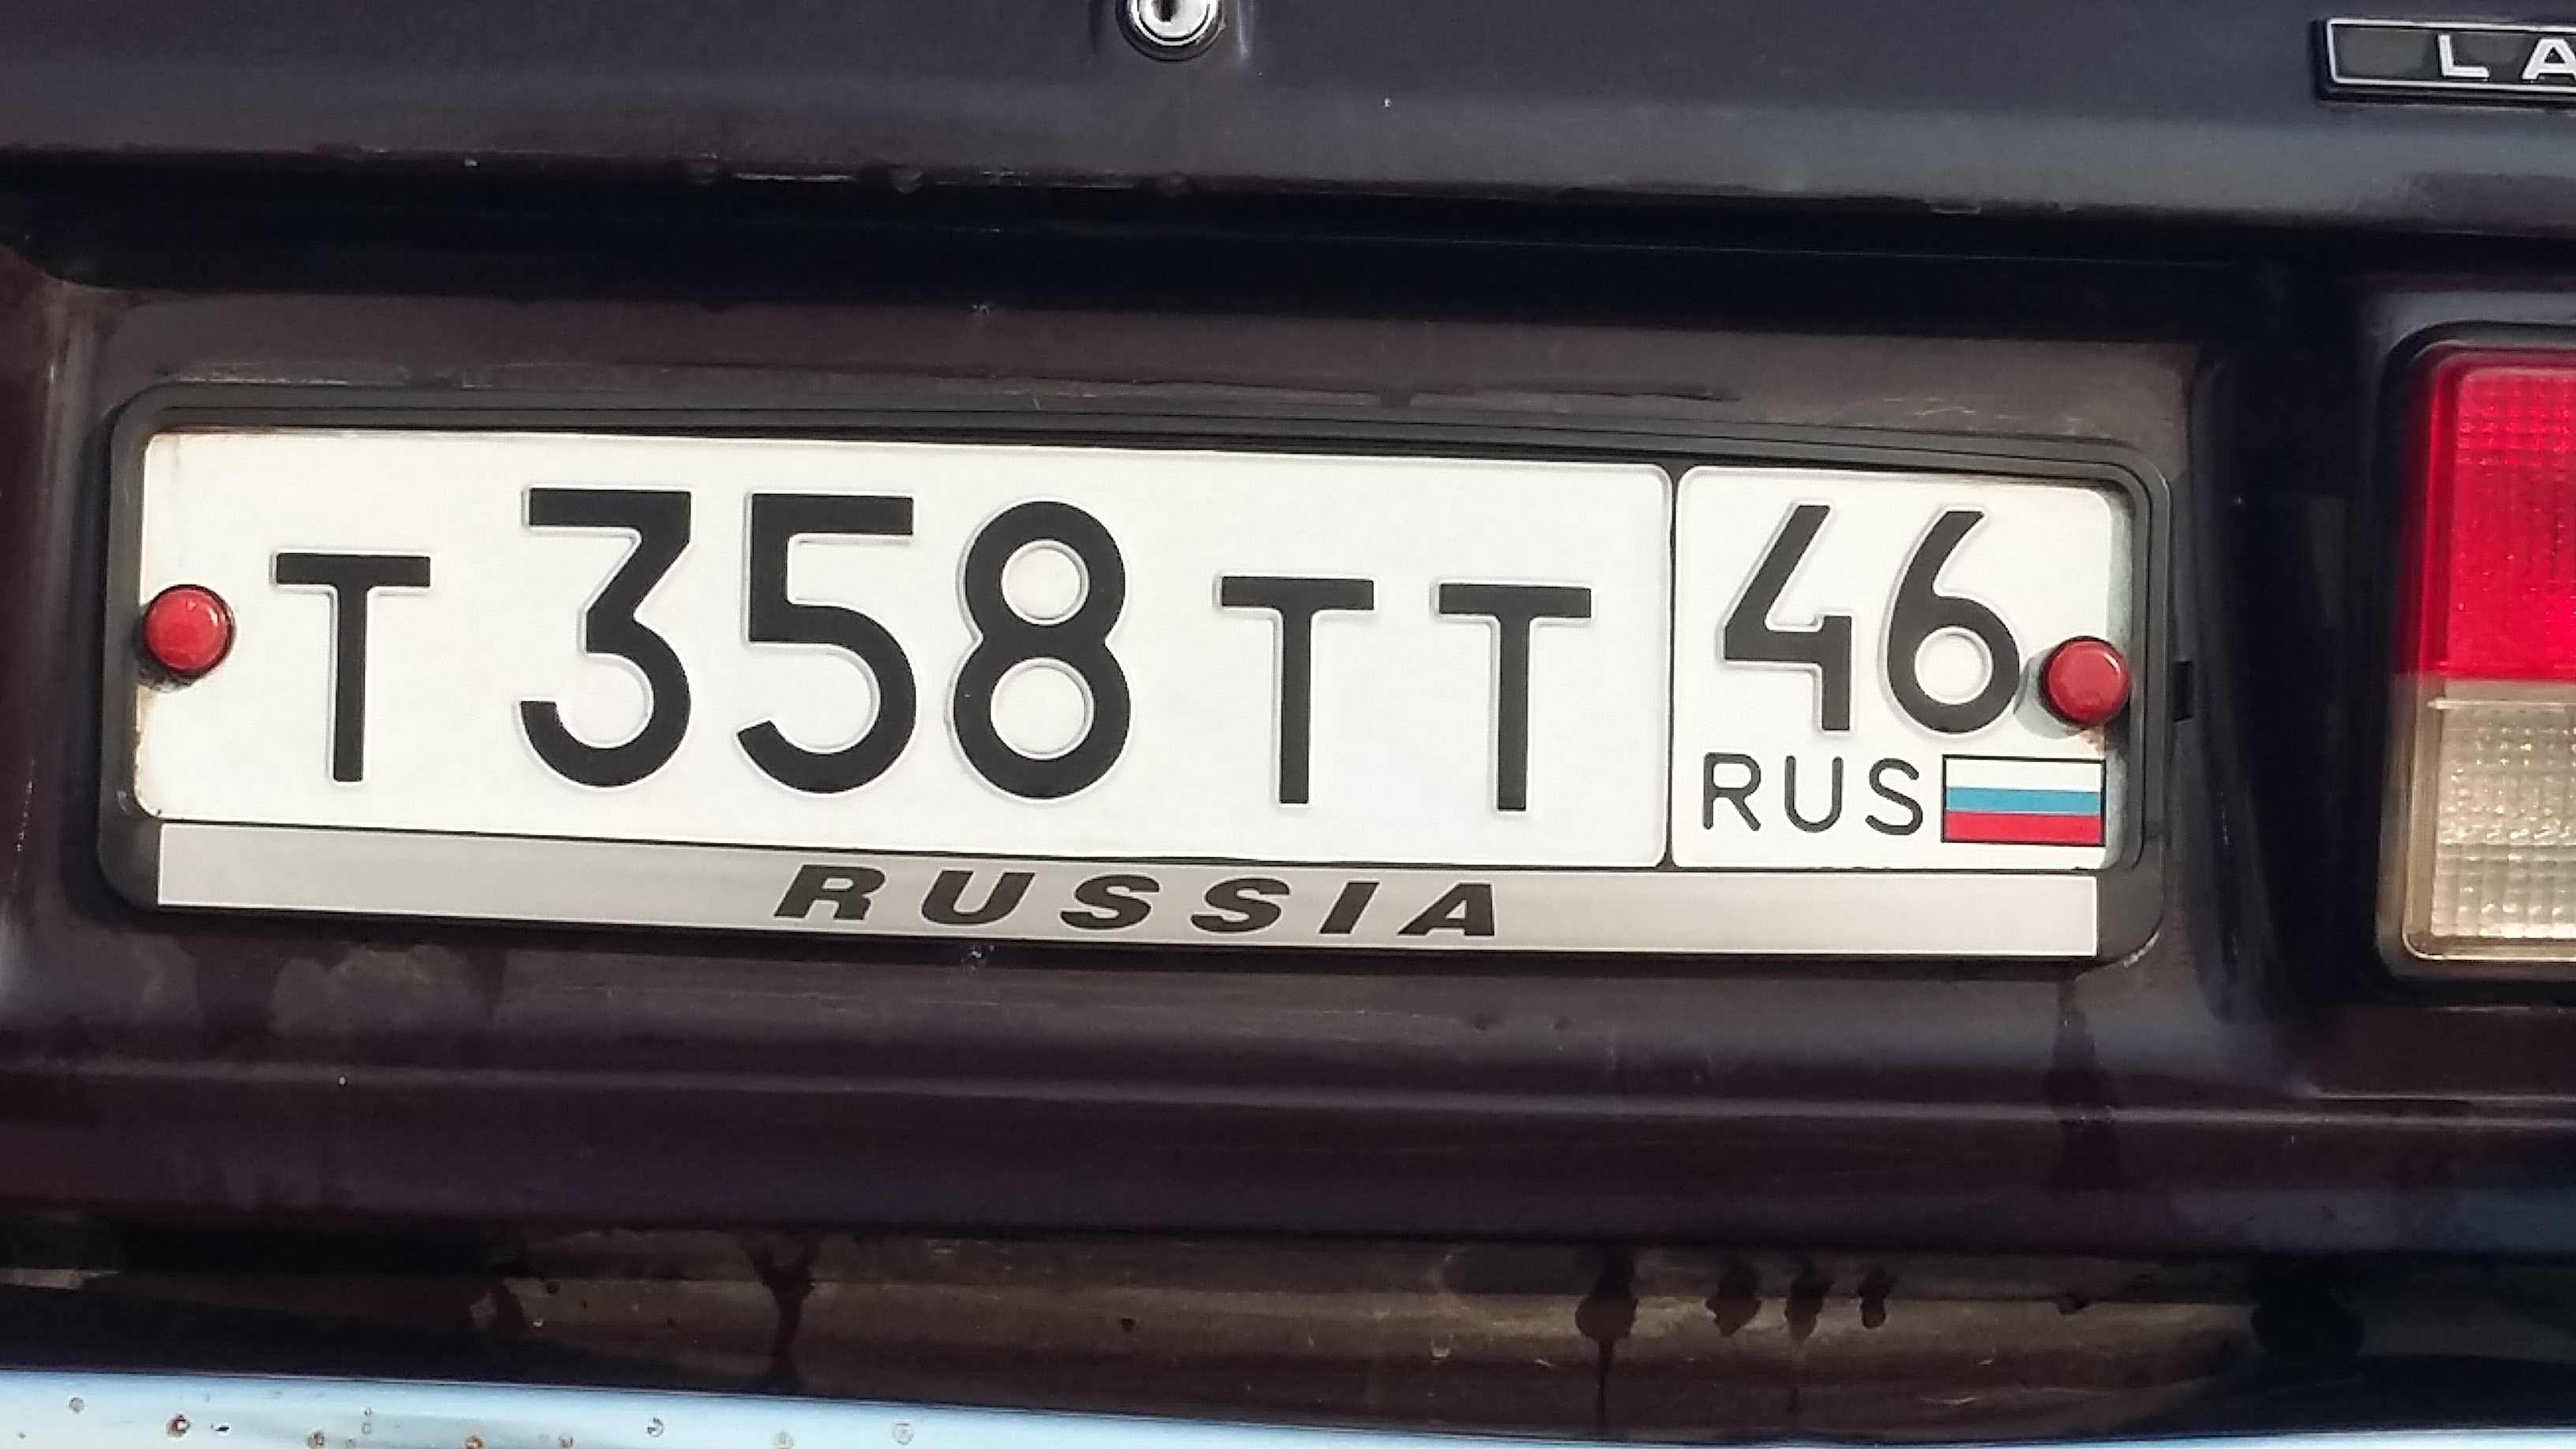number_plate: (140, 402, 2166, 866)
